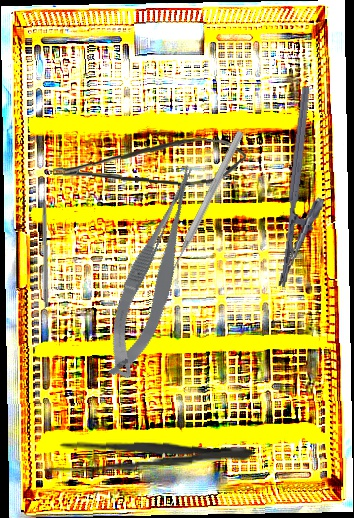Dressing Forceps: (43, 434, 255, 477)
Hook Surgical: (41, 182, 50, 308)
Micro Scissor: (86, 159, 225, 386), (52, 131, 247, 189)
Needle Holder: (276, 86, 339, 291)
Pusher: (161, 129, 246, 286)
